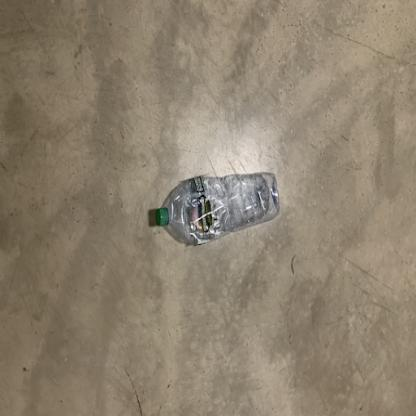trash: (155, 167, 279, 251)
